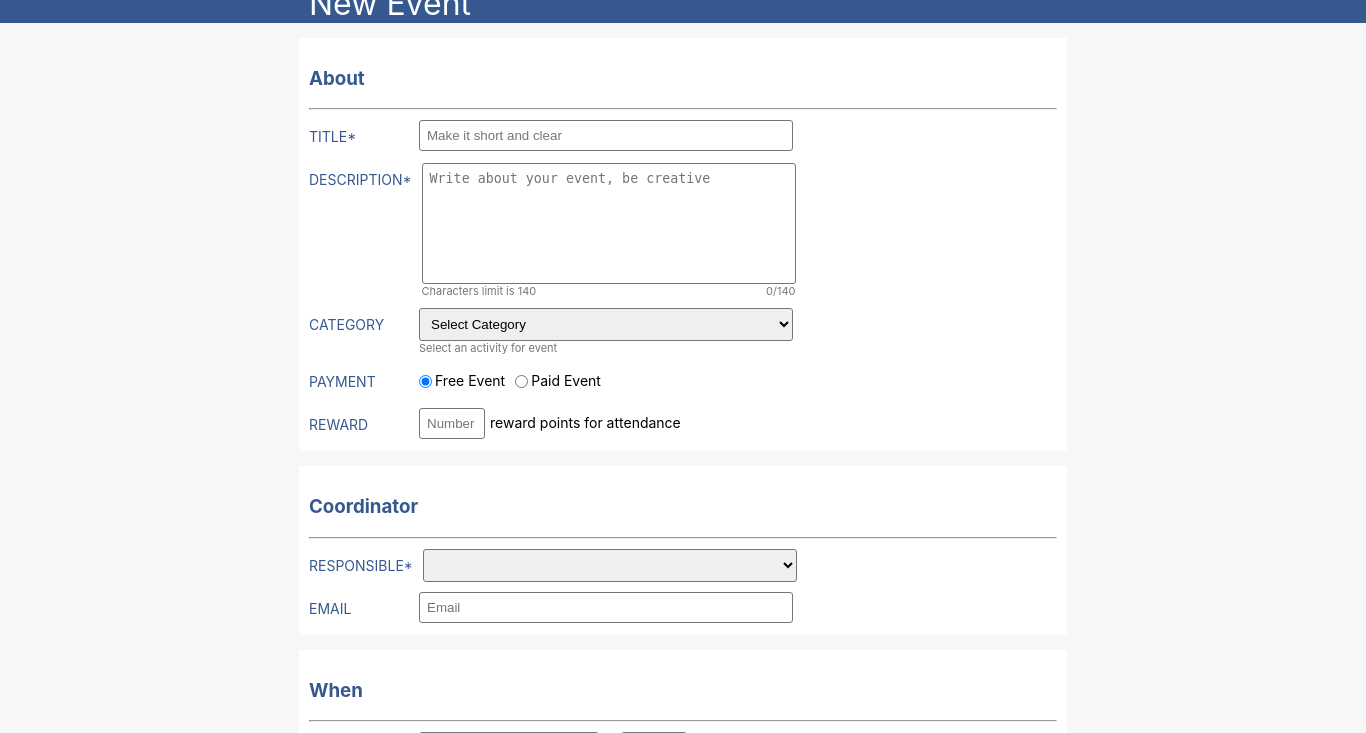
it: should fill and submit the form
In the field with placeholder "Make it short and clear": (606, 136) [419, 120, 793, 151], type "test"
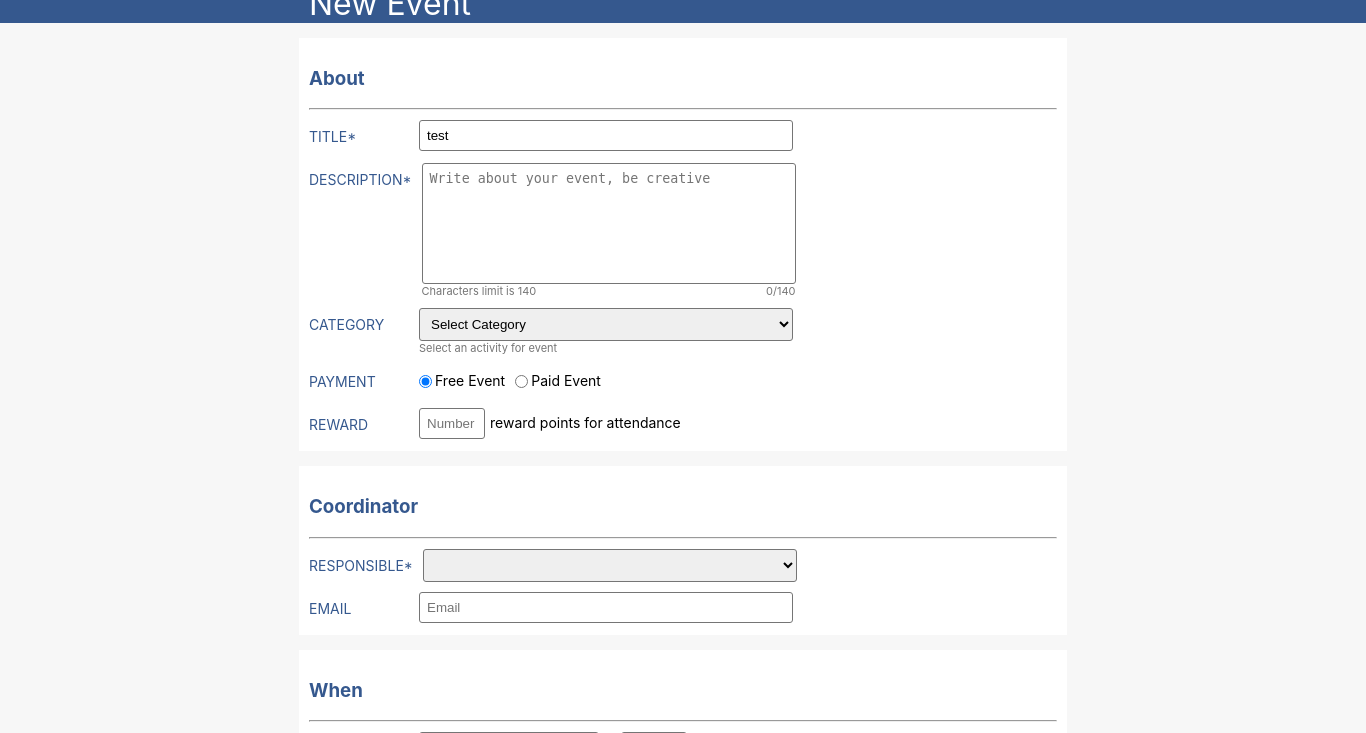
In the text box with placeholder "Write about your event, be creative": (608, 224) [422, 163, 796, 284], type "test"
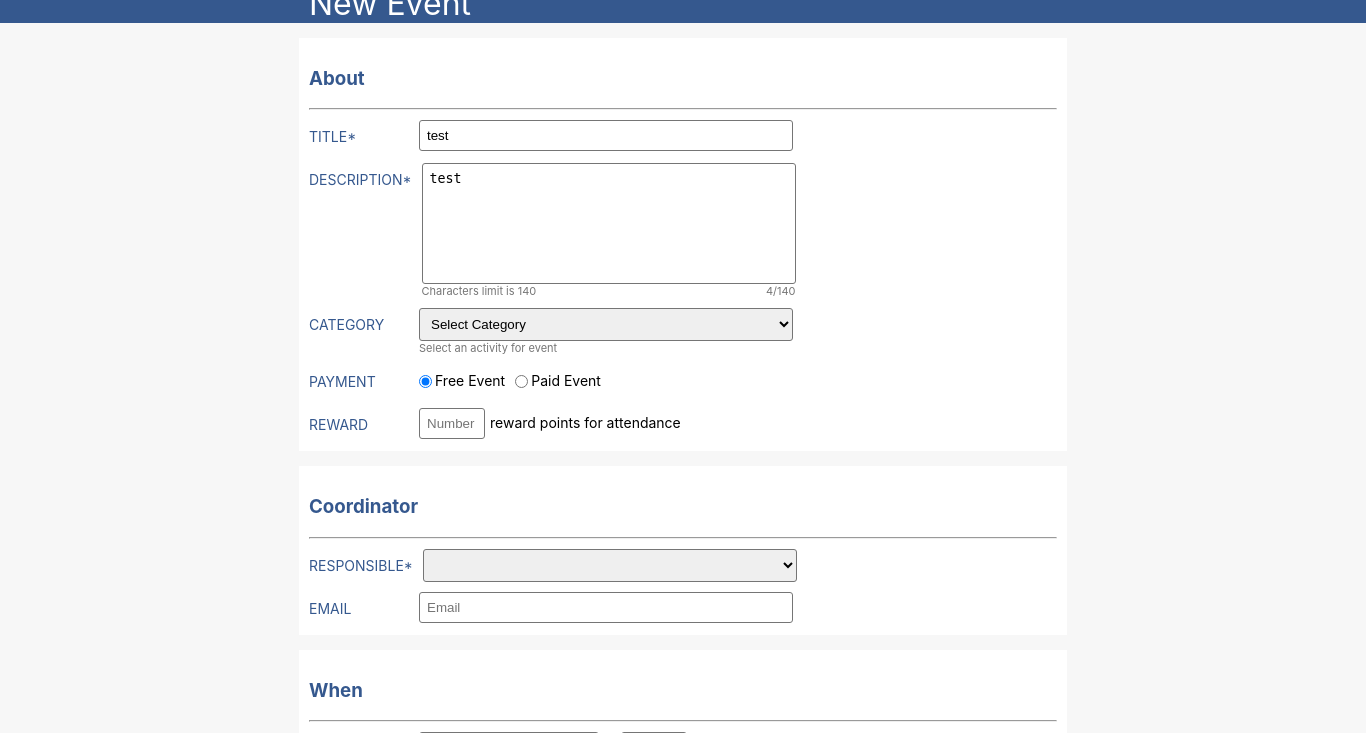
Select "1" in the dropdown showing "Select Category" next to "Category": (606, 325) [419, 308, 793, 341]
In the field with placeholder "Email": (606, 607) [419, 592, 793, 623], type "test@test.com"
(page scrolled)
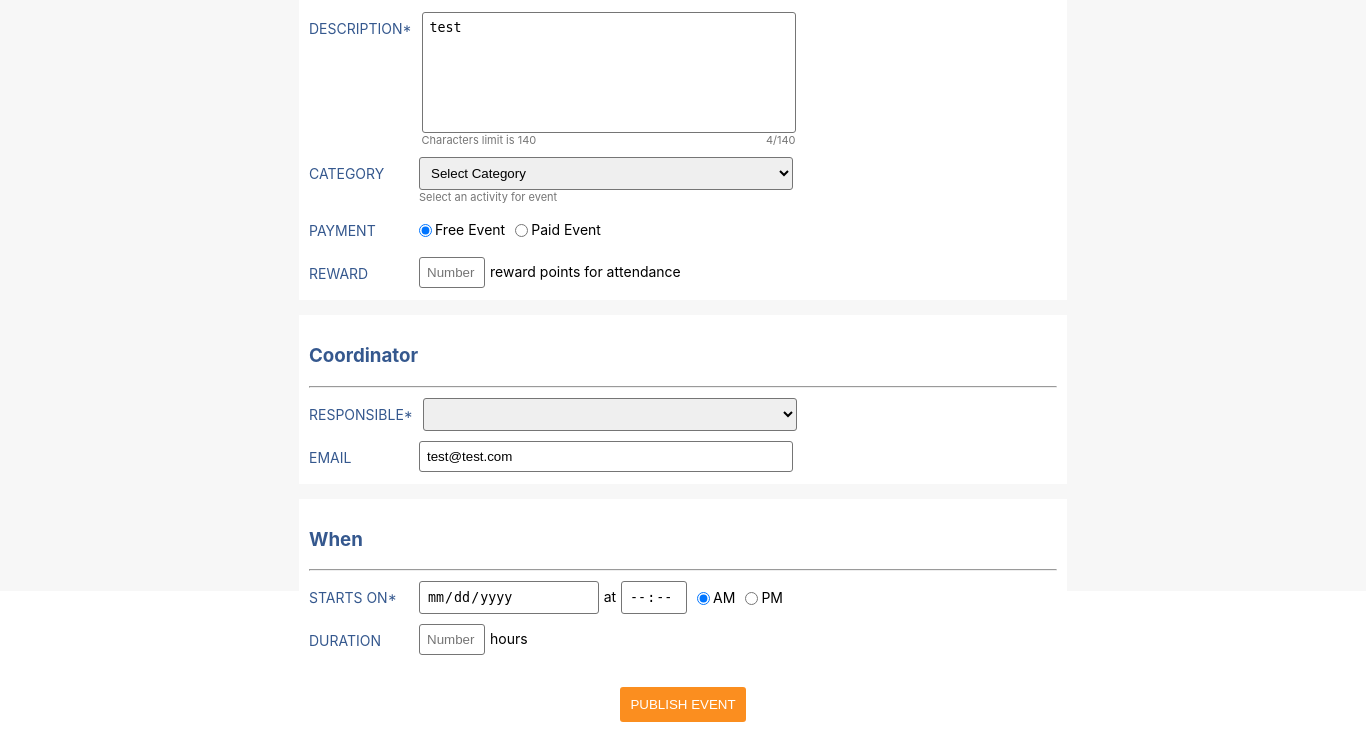
In the date field: (509, 598) [419, 581, 599, 614], type "1111-11-11"
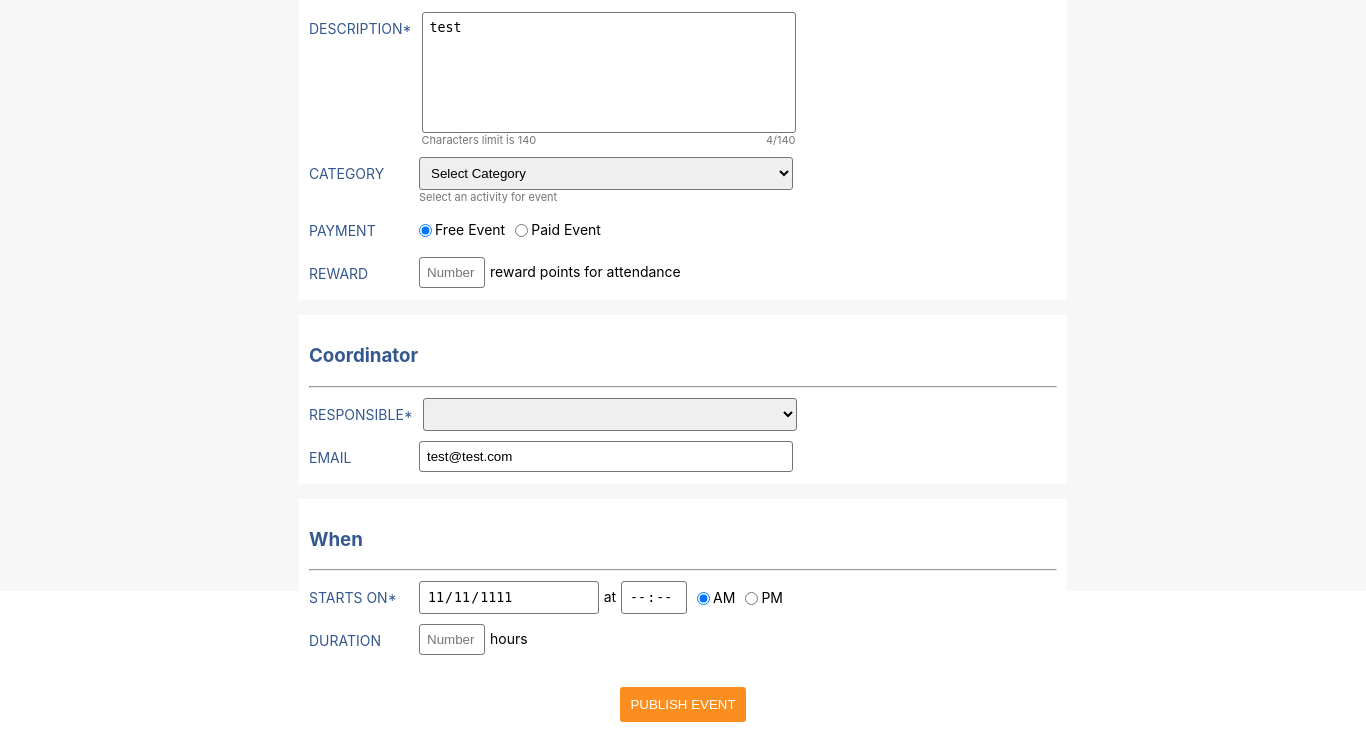
In the time field: (654, 598) [621, 581, 687, 614], type "00:00"
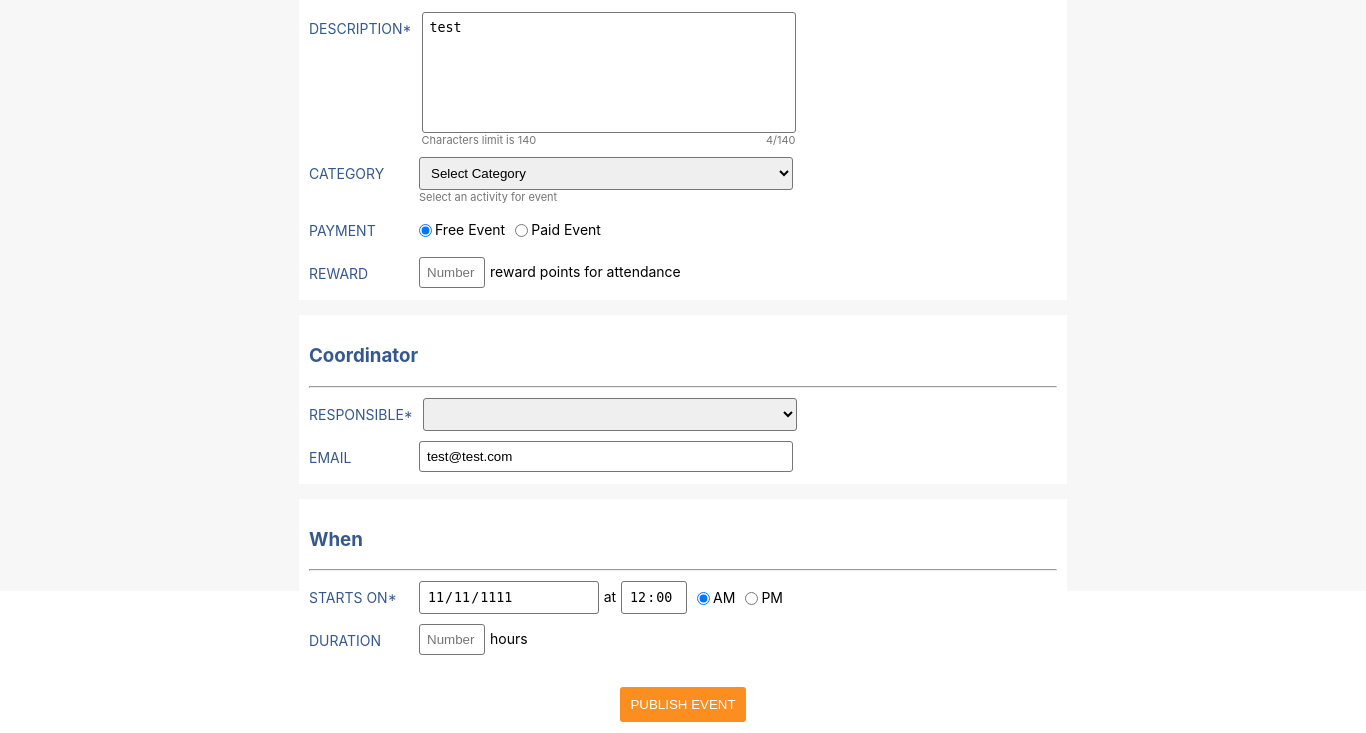
Click the button "Publish Event": (683, 705) [620, 687, 746, 722]
(page scrolled)
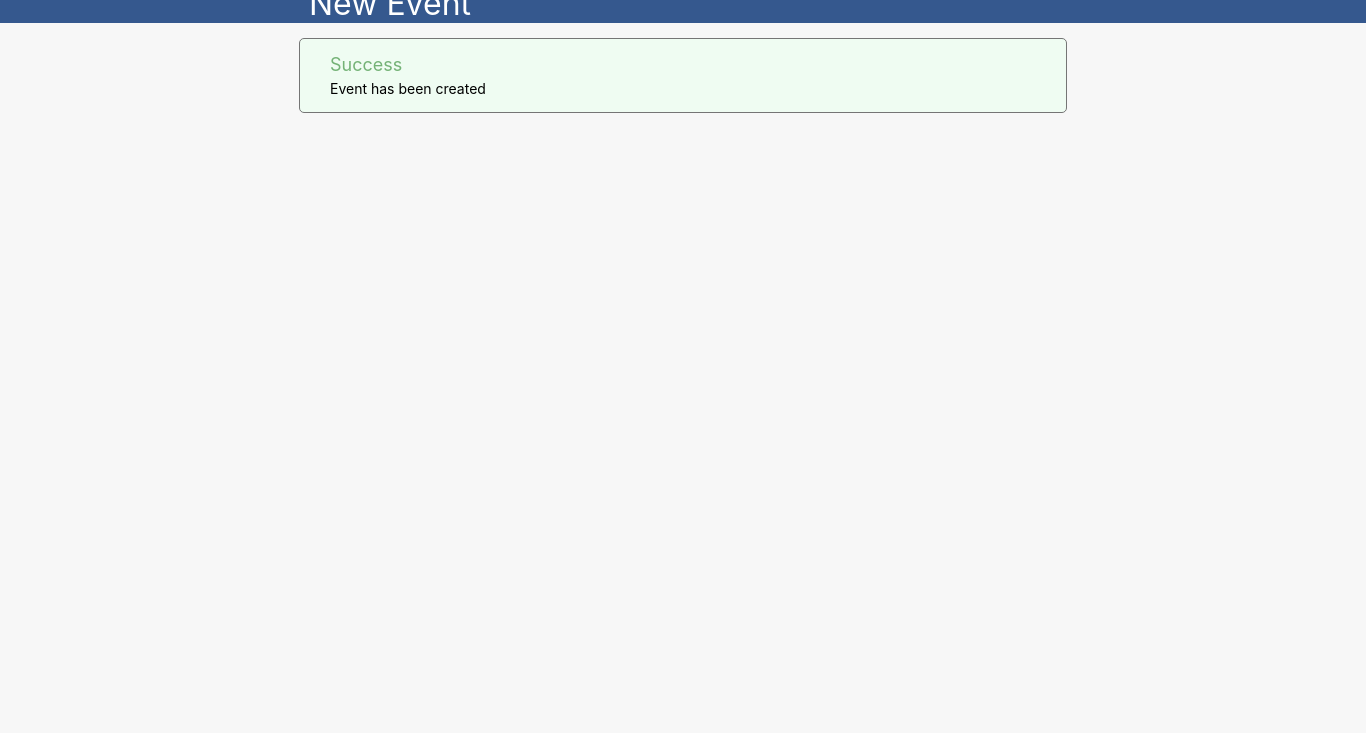
Now the text "Success" is shown, box [330, 54, 402, 75]
